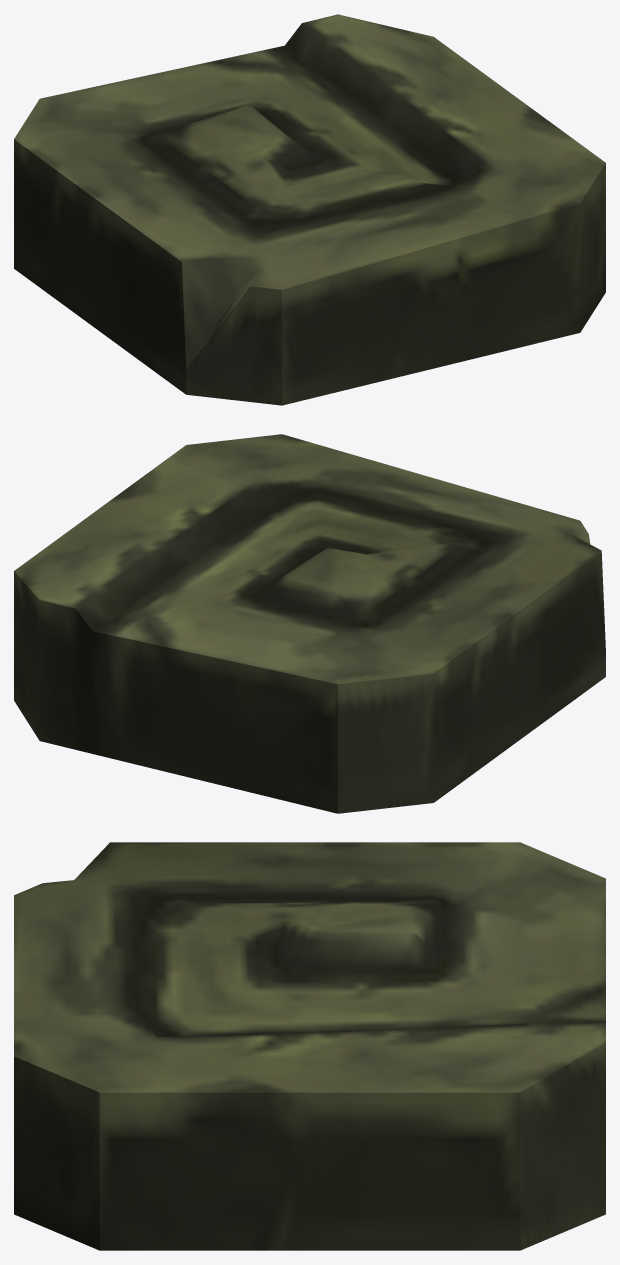
Rendered from floor_divider_hub.fbx.
3 views of the same model, one above another, from view 1: azimuth 30°, elevation 25°; view 2: azimuth 150°, elevation 25°; view 3: azimuth 270°, elevation 25° (orthographic). The views are drawn at different scales.
Parts seen in each view (by area): view 1: floor_divider_hub; view 2: floor_divider_hub; view 3: floor_divider_hub.
Part boxes in pixels (x1=…): floor_divider_hub: x1=14, y1=14, x2=605, y2=405; floor_divider_hub: x1=14, y1=434, x2=605, y2=813; floor_divider_hub: x1=14, y1=842, x2=605, y2=1250.
Size of the model in its own units: 80 by 26.98 by 80.
